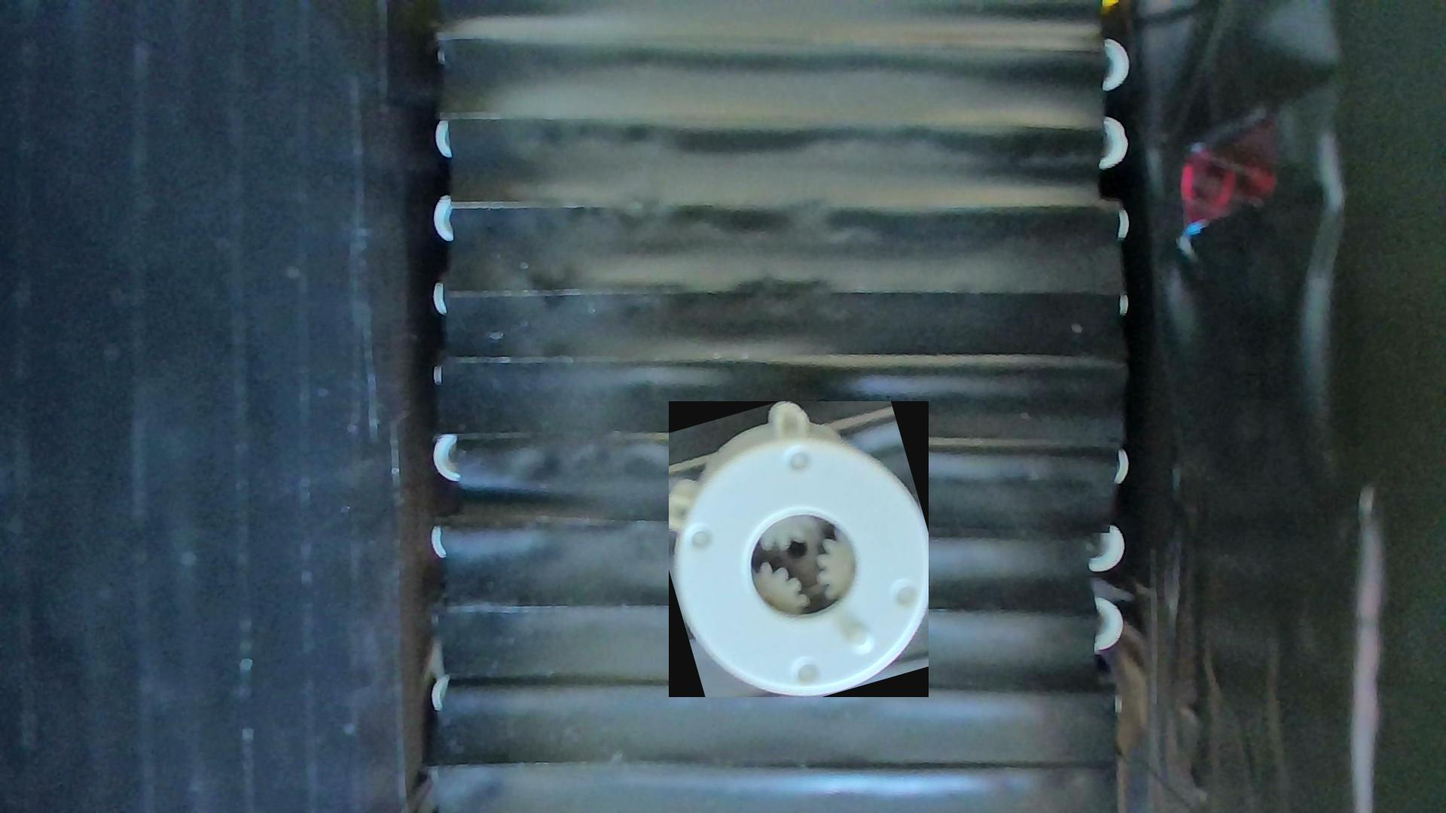cartridge: (669, 401, 929, 697)
